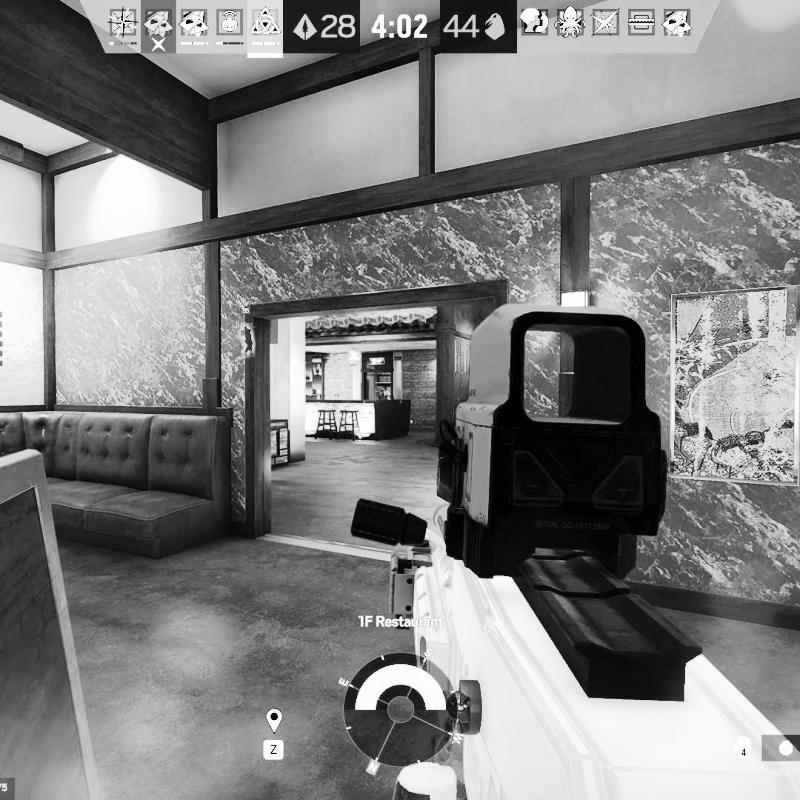Friend_label: (235, 303, 256, 328)
